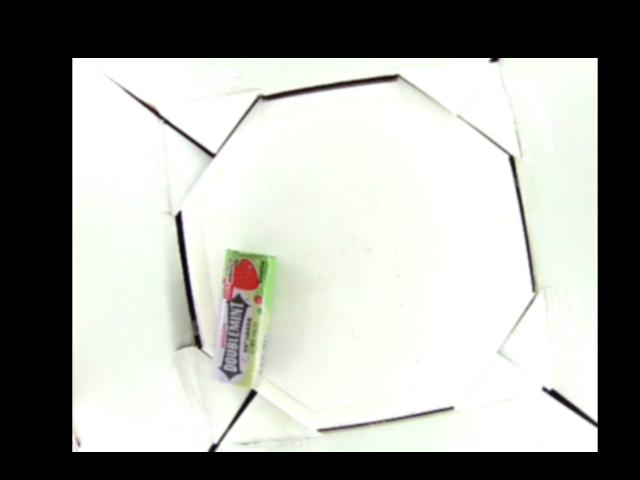Bottle: (212, 246, 275, 392)
